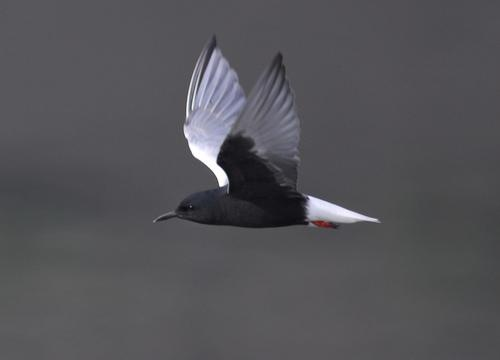bird: (152, 35, 383, 235)
